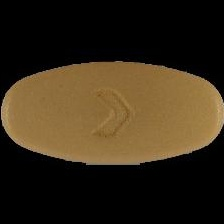42291-888: (0, 0, 224, 224)
